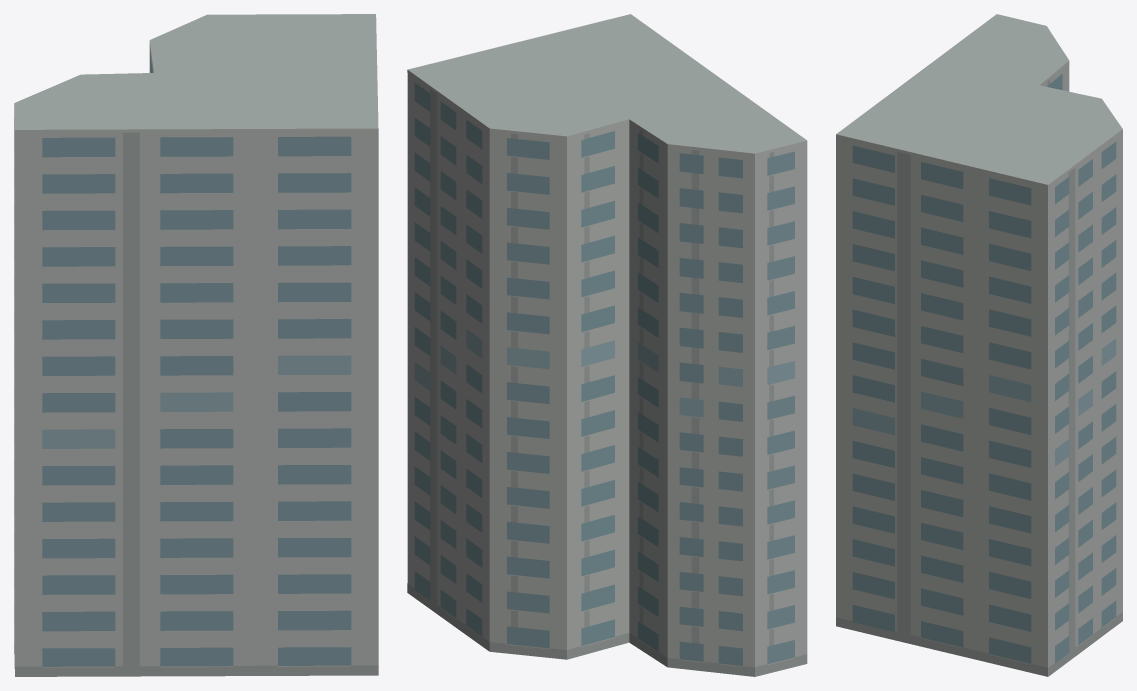
Rendered from residential-2b4a89a3-de9e-4685-96c1-41a14821d248.glb.
3 renders of one model, left to right at view 1: azimuth 30°, elevation 25°; view 2: azimuth 150°, elevation 25°; view 3: azimuth 270°, elevation 25°, orthographic. The views are drawn at different scales.
Visible parts, largest first — view 1: residential-2b4a89a3-de9e-4685-96c1-41a14821d248.tmp; view 2: residential-2b4a89a3-de9e-4685-96c1-41a14821d248.tmp; view 3: residential-2b4a89a3-de9e-4685-96c1-41a14821d248.tmp.
Boxes of the visible parts, <box> form: residential-2b4a89a3-de9e-4685-96c1-41a14821d248.tmp: <box>14,14,378,676</box>; residential-2b4a89a3-de9e-4685-96c1-41a14821d248.tmp: <box>407,14,807,676</box>; residential-2b4a89a3-de9e-4685-96c1-41a14821d248.tmp: <box>836,14,1122,676</box>.
Bounding box in the file's own units: 32.05 × 43 × 22.73.
